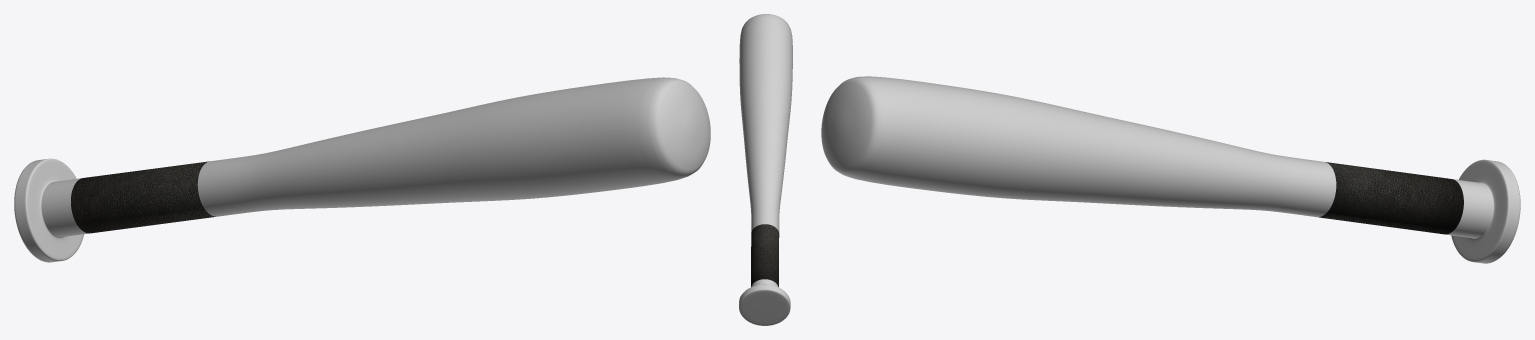
Rendered from baseball bat.fbx.
The picture shows the model from 3 angles, left to right: view 1: azimuth 30°, elevation 25°; view 2: azimuth 150°, elevation 25°; view 3: azimuth 270°, elevation 25°; orthographic projection. The views are drawn at different scales.
Parts seen in each view (by area): view 1: Cylinder; view 2: Cylinder; view 3: Cylinder.
Part boxes in pixels (left/top/right/bottom): Cylinder: left=14, top=77, right=710, bottom=262; Cylinder: left=739, top=14, right=792, bottom=325; Cylinder: left=821, top=76, right=1520, bottom=263.
Size of the model in its own units: 2.15 by 1.71 by 3.31.
